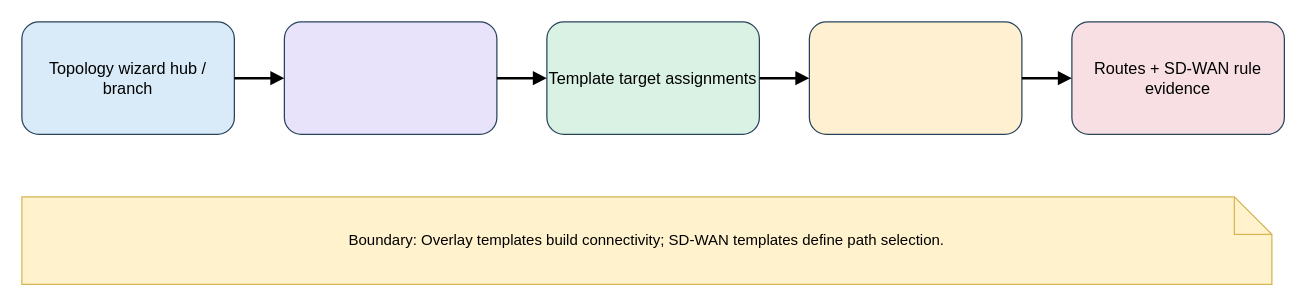
This 1306x306 diagram has some shape labels left out. The shapes that lost their labels are listed below. From the top down, each one's box as (x1, y1, x2, y2) in pixels, then its label:
(283, 21, 497, 134): Generated IPsec BGP + CLI
(808, 21, 1022, 134): Ordered install interfaces → IPsec
